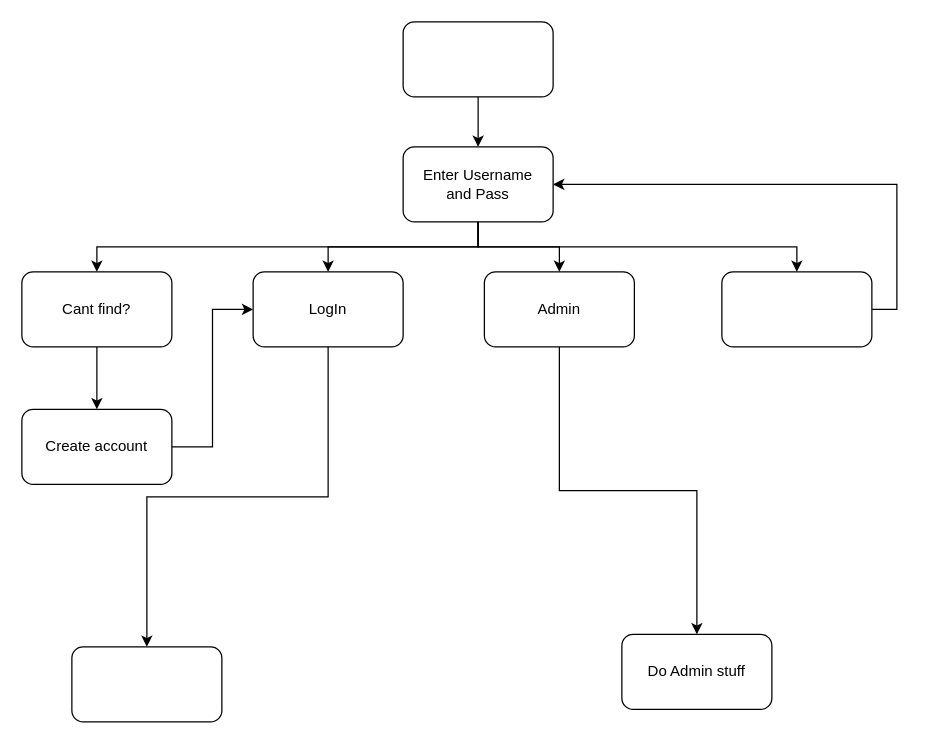
This 929x744 diagram has some shape labels left out. Each missing label, with the box of its shape:
Prompt Storefront: (71, 646, 222, 722)
Start: (402, 21, 553, 97)
Wrong Password?: (721, 271, 872, 347)
